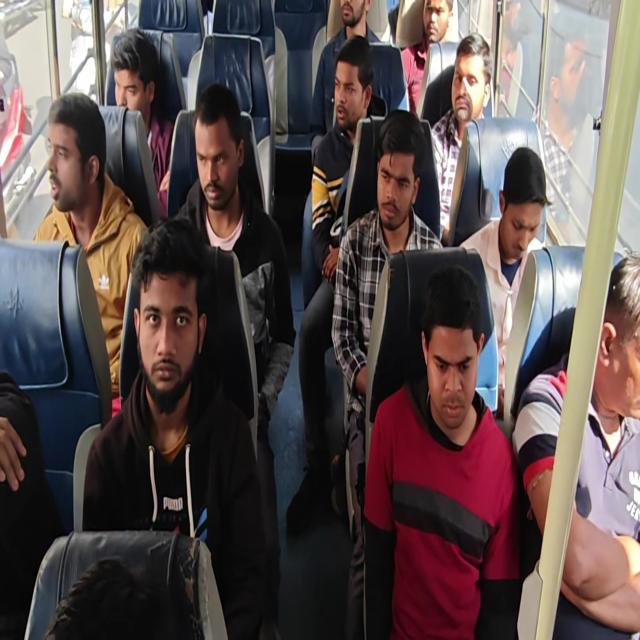person: (1, 1, 638, 638), (81, 215, 267, 638), (169, 82, 296, 634), (330, 108, 445, 638), (362, 264, 521, 638), (512, 252, 639, 638), (286, 34, 382, 535), (33, 91, 148, 411), (458, 146, 551, 418), (0, 369, 62, 639), (311, 34, 376, 284), (537, 21, 601, 245), (430, 32, 493, 244), (43, 556, 194, 639), (110, 27, 175, 219), (310, 0, 385, 142), (398, 0, 454, 117)
